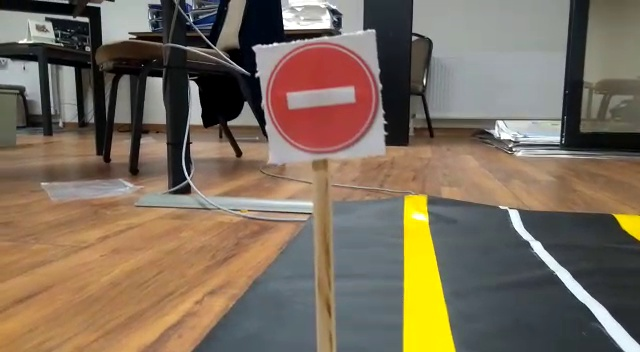girisi_olmayan_yol: (254, 42, 383, 159)
